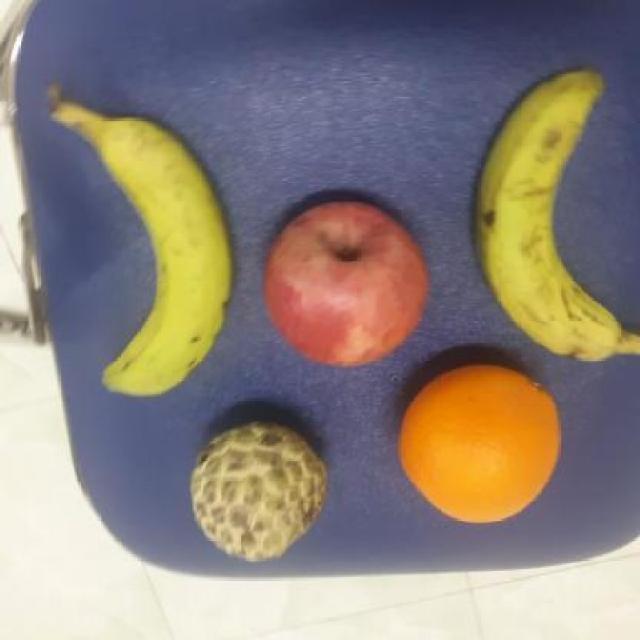apple: (262, 196, 432, 369)
banana: (475, 69, 637, 366), (76, 105, 236, 397)
oren: (392, 362, 562, 529)
sugar apple: (187, 416, 331, 564)
